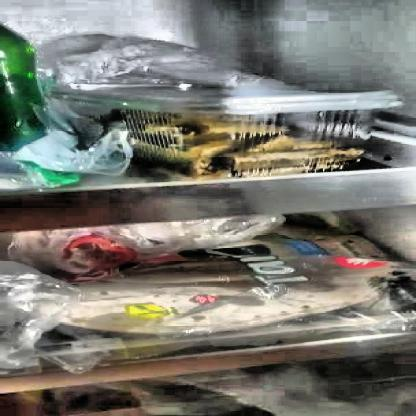mineral_water: (0, 24, 47, 146)
